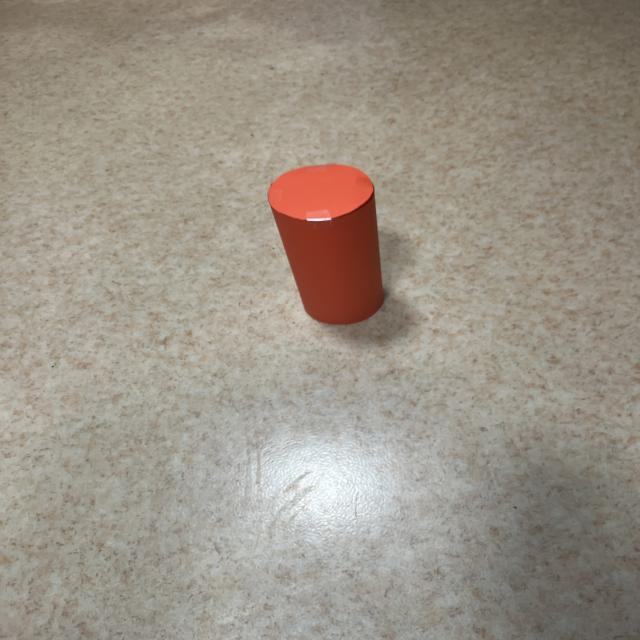przeszkoda: (268, 164, 383, 324)
